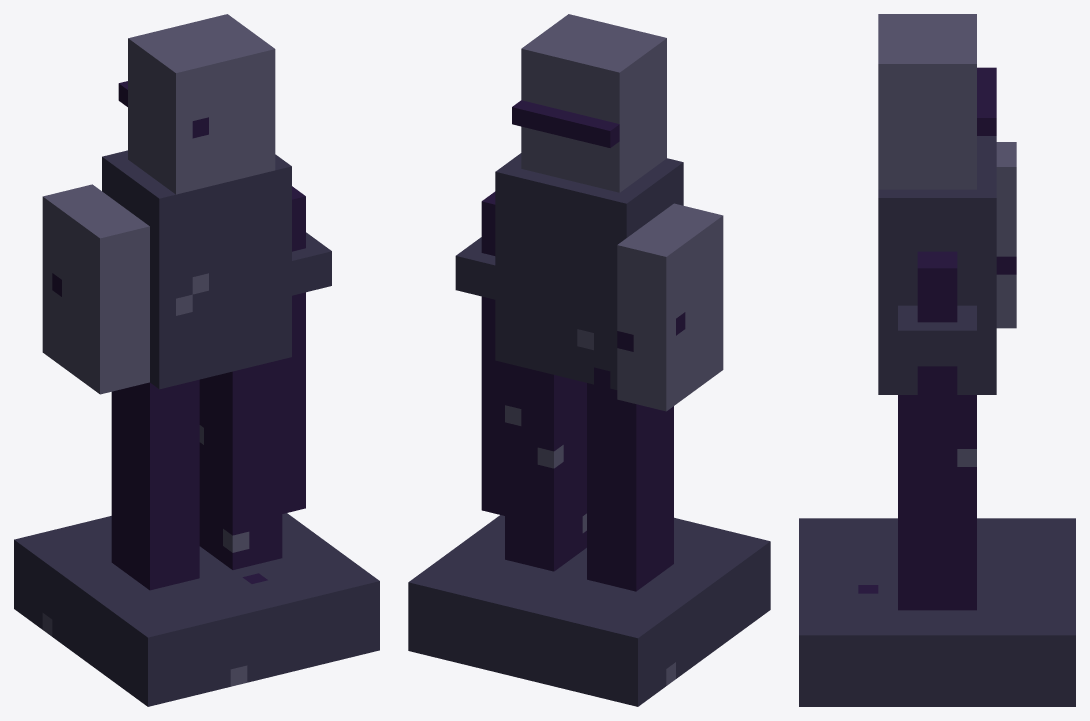
Rendered from statue_knight.obj.
The picture shows the model from 3 angles, left to right: view 1: azimuth 30°, elevation 25°; view 2: azimuth 150°, elevation 25°; view 3: azimuth 270°, elevation 25°; orthographic projection. The views are drawn at different scales.
Parts seen in each view (by area): view 1: statue_knight; view 2: statue_knight; view 3: statue_knight.
Boxes of the visible parts, box(x1,y1,x2,y2) form: statue_knight: box(14, 14, 379, 706); statue_knight: box(408, 14, 770, 706); statue_knight: box(799, 14, 1075, 706).
Size of the model in its own units: 0.875 by 2.12 by 0.875.
Materials: 1 (1 with a texture image).
